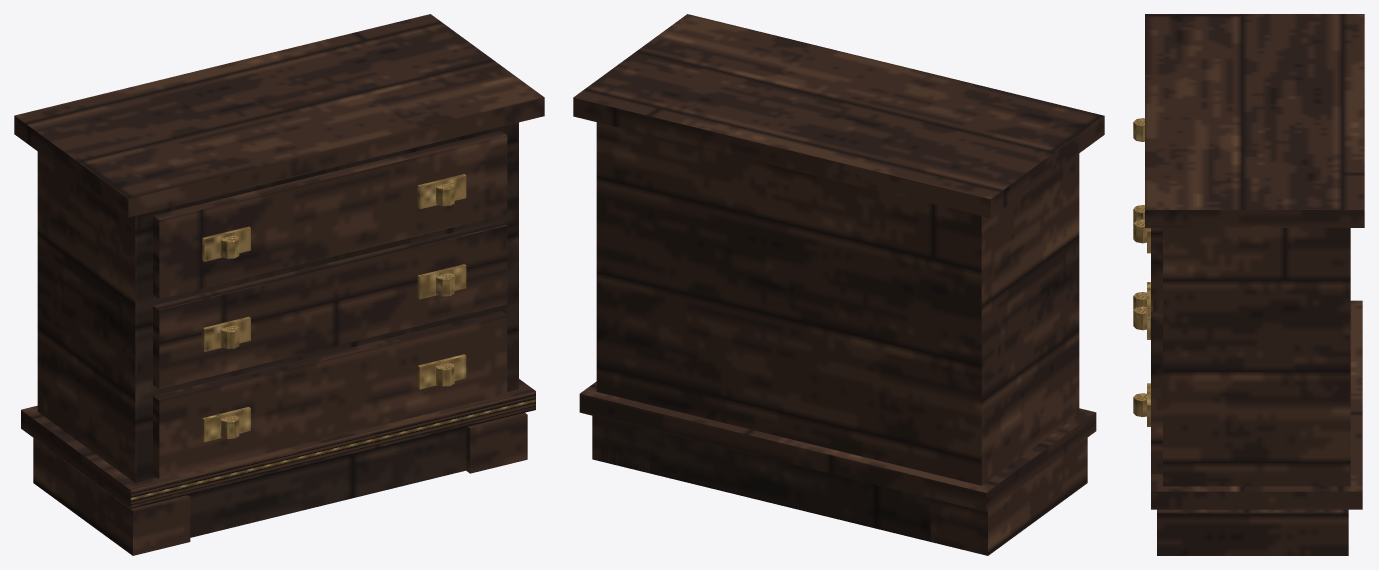
The model's file is Furn_Dresser_Walnut.fbx.
3 renders of one model, left to right at view 1: azimuth 30°, elevation 25°; view 2: azimuth 150°, elevation 25°; view 3: azimuth 270°, elevation 25°, orthographic. The views are drawn at different scales.
Parts seen in each view (by area): view 1: Furn_Dresser_Walnut; view 2: Furn_Dresser_Walnut; view 3: Furn_Dresser_Walnut.
Boxes of the visible parts, x1=… form: Furn_Dresser_Walnut: x1=14, y1=14, x2=544, y2=555; Furn_Dresser_Walnut: x1=573, y1=14, x2=1104, y2=555; Furn_Dresser_Walnut: x1=1133, y1=14, x2=1364, y2=555.
Size of the model in its own units: 1.16 by 0.97 by 0.579.
